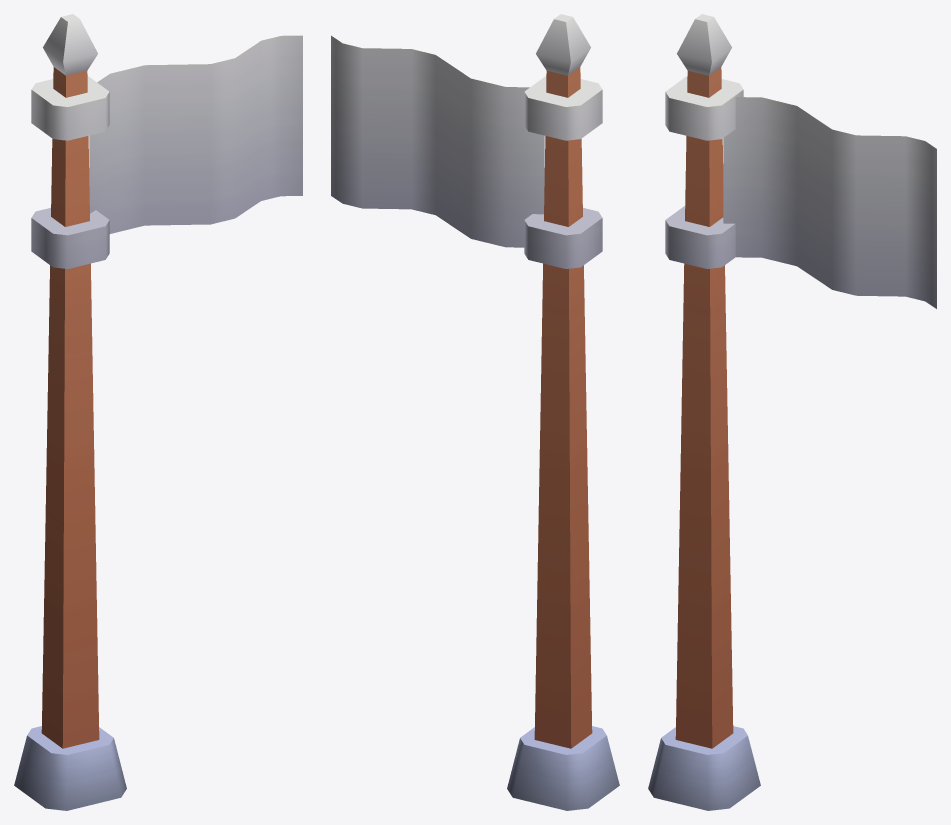
The model's file is flag-high.glb.
3 views of the same model, side by side, from view 1: azimuth 30°, elevation 25°; view 2: azimuth 150°, elevation 25°; view 3: azimuth 330°, elevation 25° (orthographic).
Parts seen in each view (by area): view 1: flag-high; view 2: flag-high; view 3: flag-high.
Boxes of the visible parts, x1,y1,x2,y2 form: flag-high: [14, 14, 302, 810]; flag-high: [331, 14, 619, 810]; flag-high: [648, 14, 936, 810].
Size of the model in its own units: 1.34 by 3.6 by 0.3987.
Materials: 1 (1 with a texture image).
